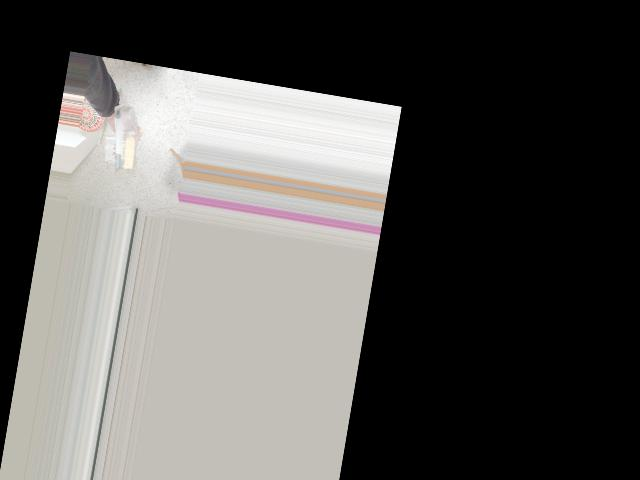cheese: (105, 105, 144, 172)
